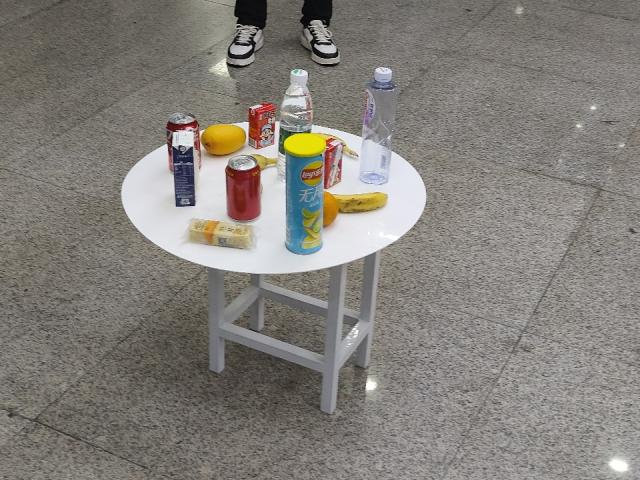Canned_drinks: (229, 154, 263, 219)
bottle: (367, 74, 393, 186), (282, 64, 307, 140)
cylinder: (287, 138, 324, 255)
drink_box: (172, 133, 198, 209), (248, 102, 276, 147), (328, 138, 344, 188)
